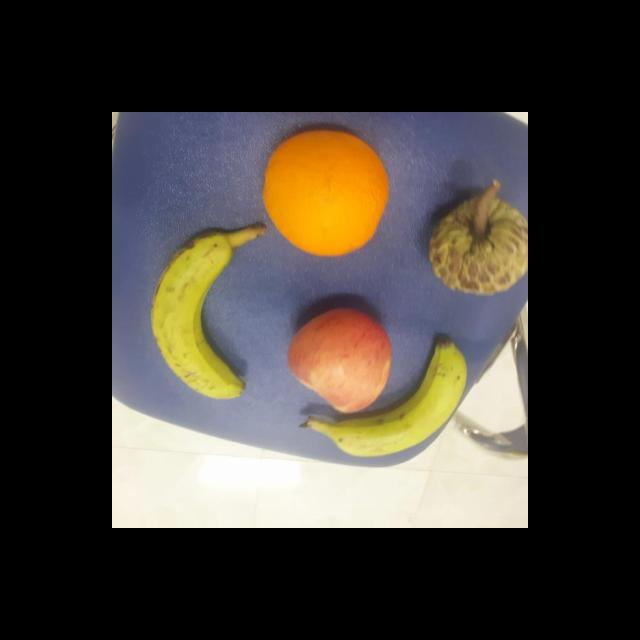Sakya fruit: (428, 192, 528, 298)
apple: (282, 308, 396, 417)
banana: (148, 224, 244, 406), (336, 336, 468, 462)
orange: (264, 127, 388, 259)
